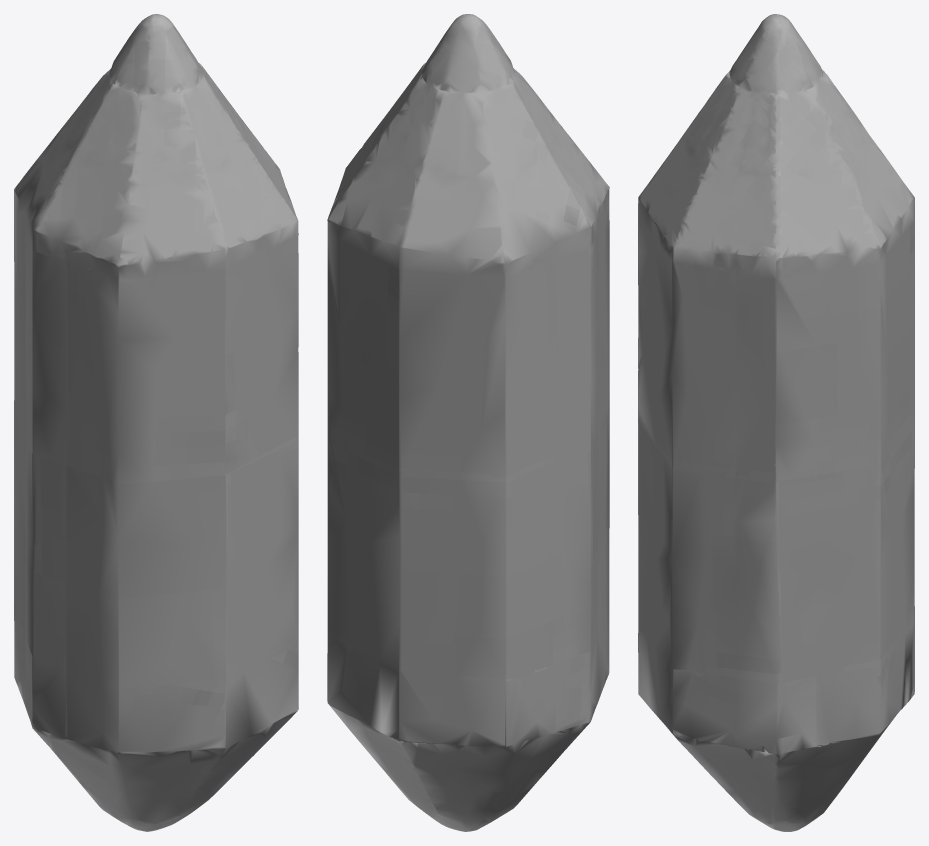
Rendered from s_pencil.glb.
3 renders of one model, left to right at view 1: azimuth 30°, elevation 25°; view 2: azimuth 150°, elevation 25°; view 3: azimuth 270°, elevation 25°, orthographic.
Visible parts, largest first — view 1: tripo_node_5bf45667-2e39-4389-9a7a-58b49bac4088; view 2: tripo_node_5bf45667-2e39-4389-9a7a-58b49bac4088; view 3: tripo_node_5bf45667-2e39-4389-9a7a-58b49bac4088.
Boxes of the visible parts, x1,y1,x2,y2 form: tripo_node_5bf45667-2e39-4389-9a7a-58b49bac4088: (14, 14, 298, 831); tripo_node_5bf45667-2e39-4389-9a7a-58b49bac4088: (327, 14, 609, 831); tripo_node_5bf45667-2e39-4389-9a7a-58b49bac4088: (638, 14, 914, 831).
Bounding box in the file's own units: 0.317 × 0.9996 × 0.309.
1 material, 1 textured.
